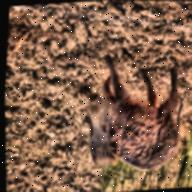boar: (77, 47, 191, 177)
